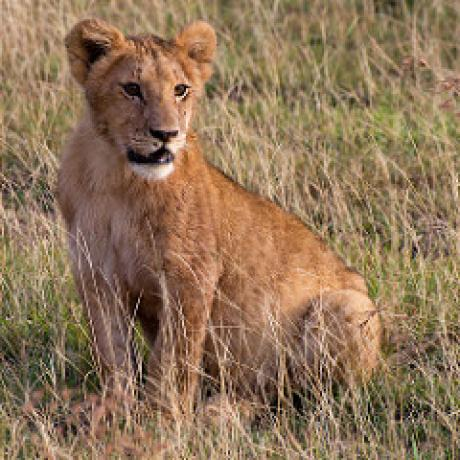Lion: (49, 11, 378, 381)
